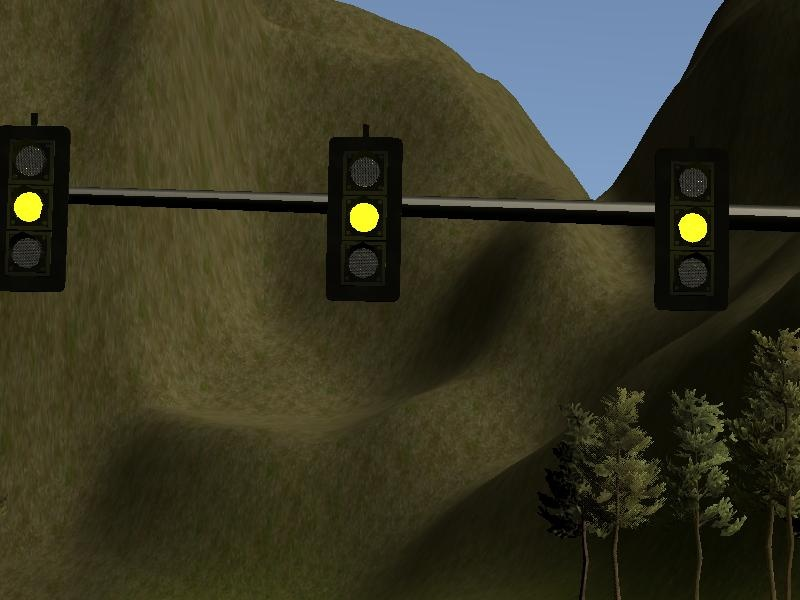YELLOW: (652, 148, 735, 315), (323, 135, 406, 302), (1, 125, 75, 301)
